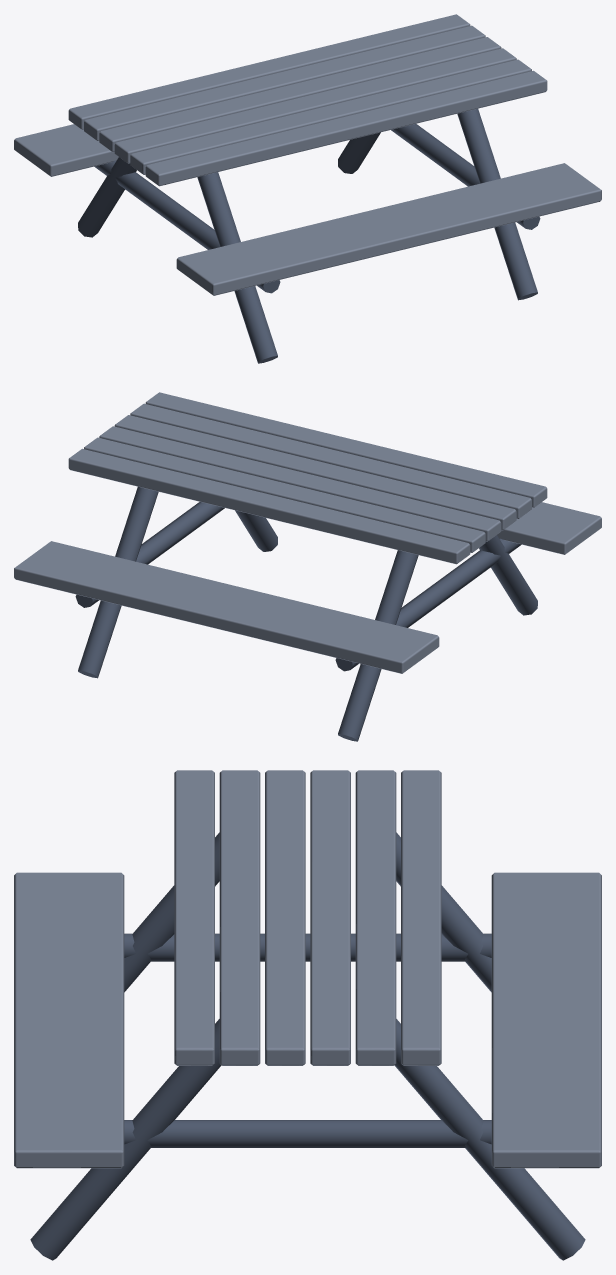
The model's file is garden-table-picnic-lite.glb.
3 renders of one model, top to bottom at view 1: azimuth 30°, elevation 25°; view 2: azimuth 150°, elevation 25°; view 3: azimuth 270°, elevation 25°, orthographic. The views are drawn at different scales.
Visible parts, largest first — view 1: garden-table-picnic; view 2: garden-table-picnic; view 3: garden-table-picnic.
Part boxes in pixels (x1=…): garden-table-picnic: x1=14, y1=14, x2=601, y2=363; garden-table-picnic: x1=14, y1=392, x2=601, y2=741; garden-table-picnic: x1=14, y1=770, x2=601, y2=1260.
Size of the model in its own units: 1.8 by 0.77 by 1.6.
